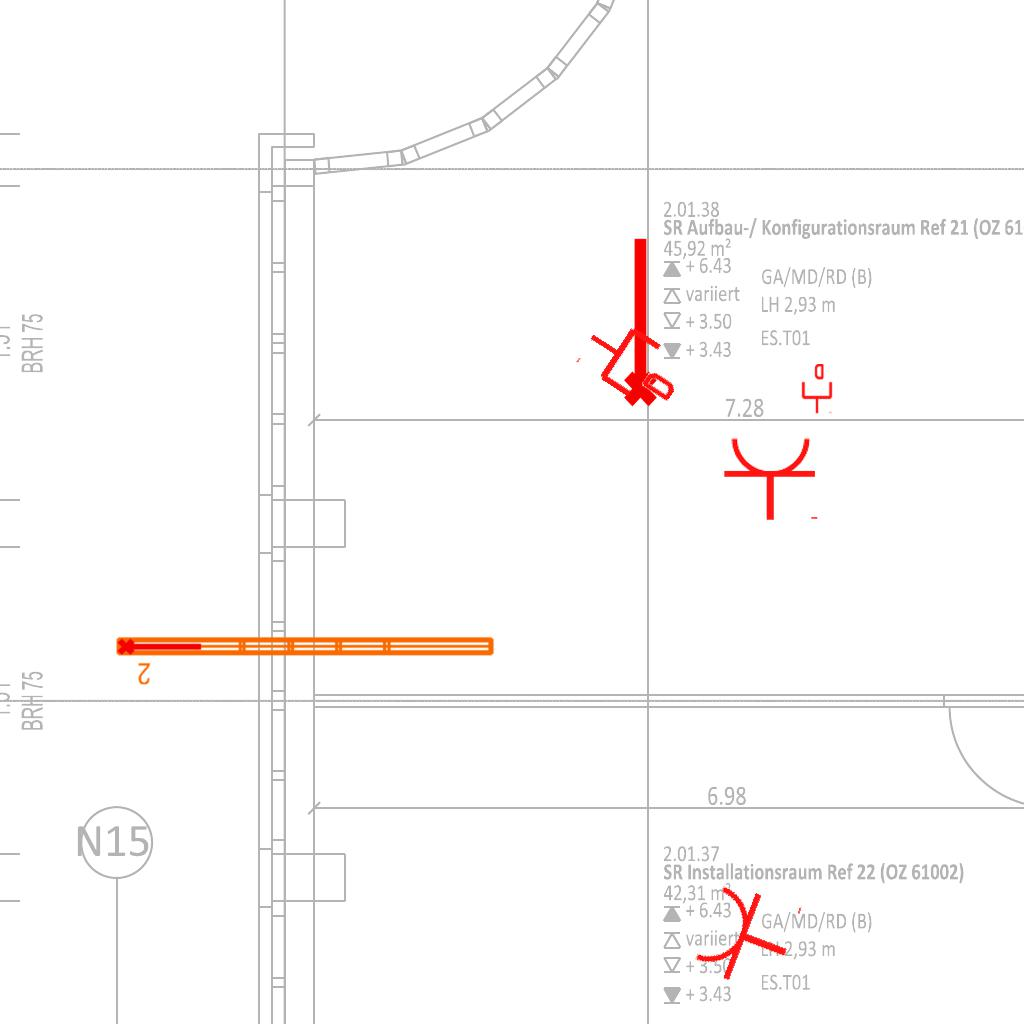ASR_Ansaugoeffnung: (615, 233, 661, 409), (116, 634, 204, 657)
Ambulanz_Pendelleuchte_LED: (112, 631, 499, 687)
Datenanschluss_einfach: (571, 306, 694, 420), (800, 364, 834, 414)
Schukosteckdose_einfach: (688, 873, 807, 999), (722, 435, 822, 522)
